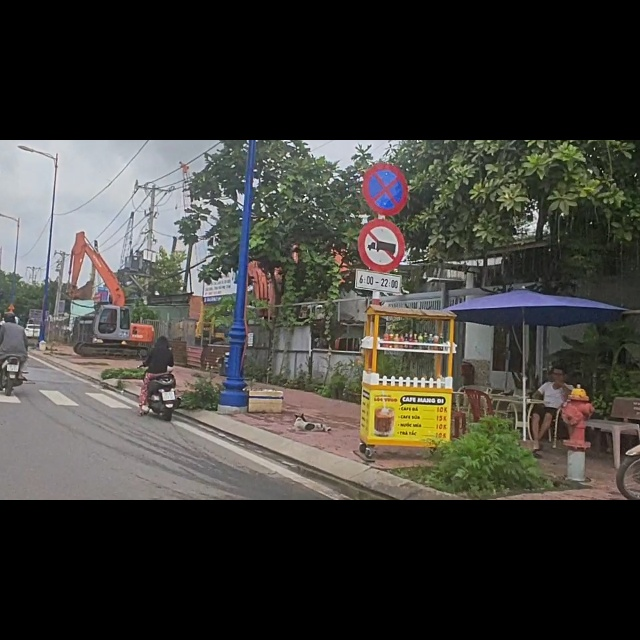bien_cam: (357, 140, 406, 238), (362, 40, 409, 135)
